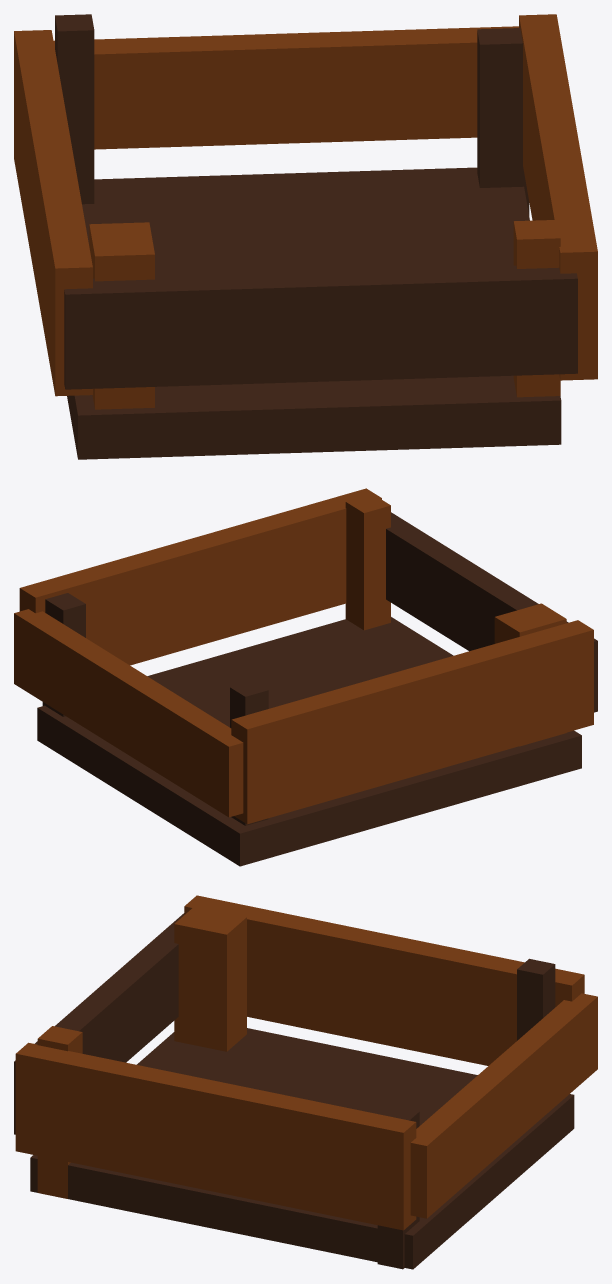
The model's file is Empty Carry-Crate.fbx.
The picture shows the model from 3 angles, top to bottom: view 1: azimuth 30°, elevation 25°; view 2: azimuth 150°, elevation 25°; view 3: azimuth 270°, elevation 25°; orthographic projection. The views are drawn at different scales.
Parts seen in each view (by area): view 1: Box011; view 2: Box011; view 3: Box011.
Part boxes in pixels (box(x1,y1,x2,y2)): Box011: box(14, 14, 597, 459); Box011: box(14, 488, 597, 866); Box011: box(14, 895, 597, 1269).
Bounding box in the file's own units: 22.64 × 7.4 × 23.53.
